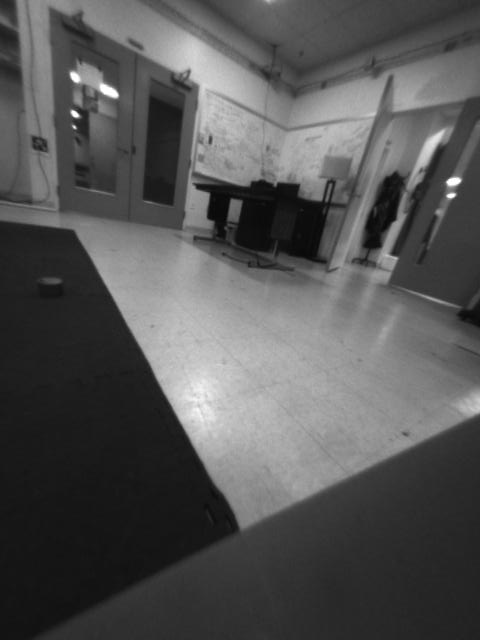dogtoy: (27, 267, 74, 302)
